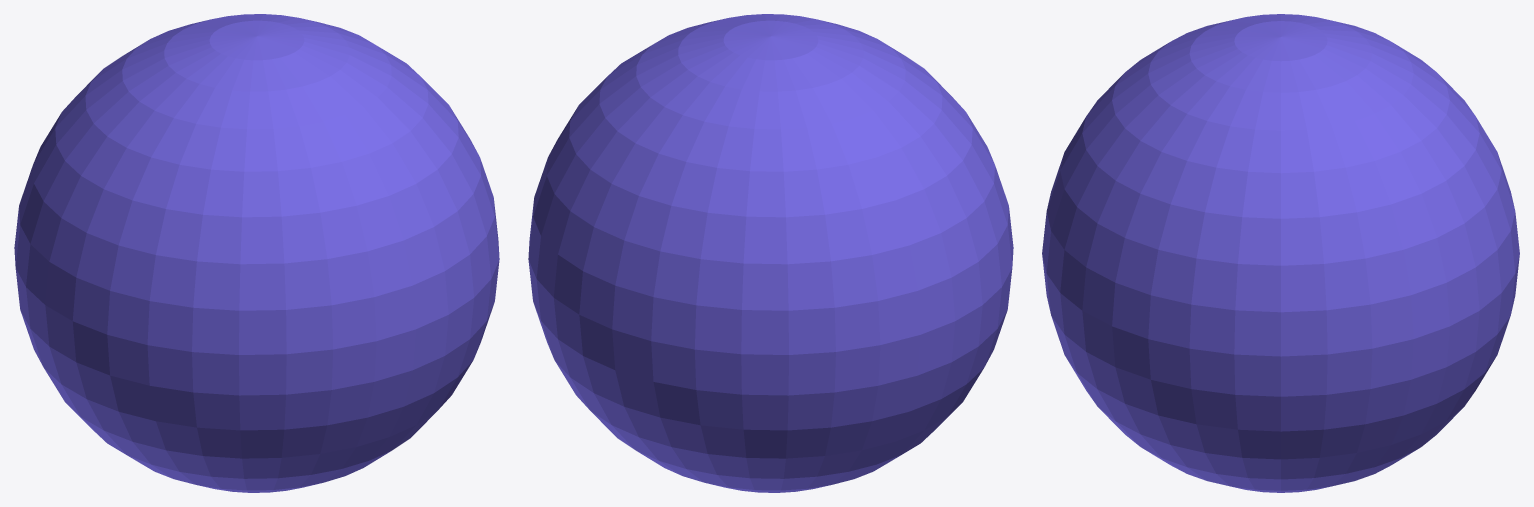
The model's file is ball1.glb.
3 views of the same model, side by side, from view 1: azimuth 30°, elevation 25°; view 2: azimuth 150°, elevation 25°; view 3: azimuth 270°, elevation 25° (orthographic).
Visible parts, largest first — view 1: Sphere; view 2: Sphere; view 3: Sphere.
Boxes of the visible parts, <box> form: Sphere: <box>14,14,499,492</box>; Sphere: <box>528,14,1013,492</box>; Sphere: <box>1042,14,1519,492</box>.
Bounding box in the file's own units: 0.462 × 0.4528 × 0.4528.
